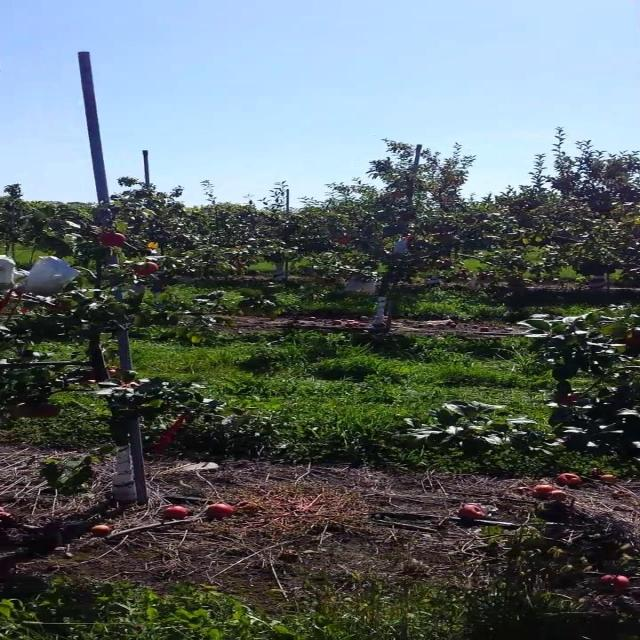apple: (99, 232, 128, 248), (134, 264, 162, 276), (13, 404, 36, 418), (84, 372, 112, 383), (84, 372, 107, 383), (625, 332, 639, 348), (13, 408, 34, 418), (554, 396, 580, 404), (42, 408, 59, 419), (625, 336, 639, 348), (340, 236, 352, 244)
